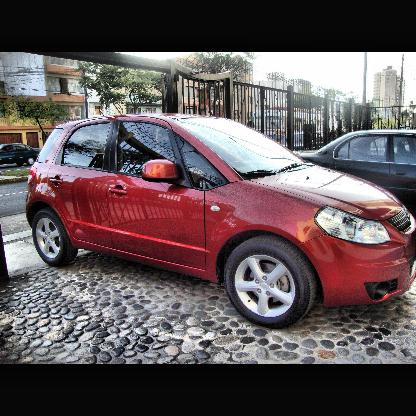Suzuki SX4 Hatchback 2012: (26, 113, 416, 330)
